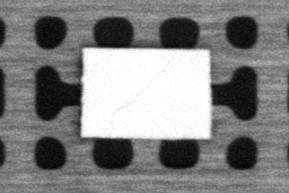DIE_CRACK: (109, 56, 176, 120)
